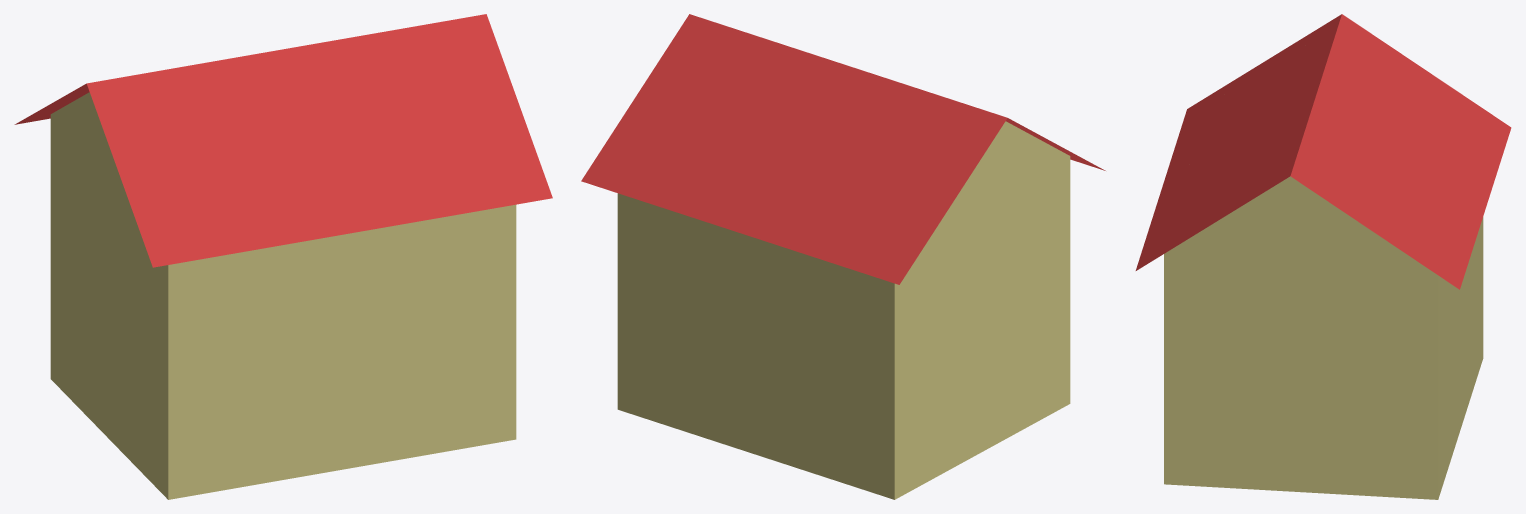
The picture shows the model from 3 angles, left to right: view 1: azimuth 30°, elevation 25°; view 2: azimuth 150°, elevation 25°; view 3: azimuth 270°, elevation 25°; orthographic projection. The views are drawn at different scales.
Size of the model in its own units: 12.73 by 11.19 by 10.7.
